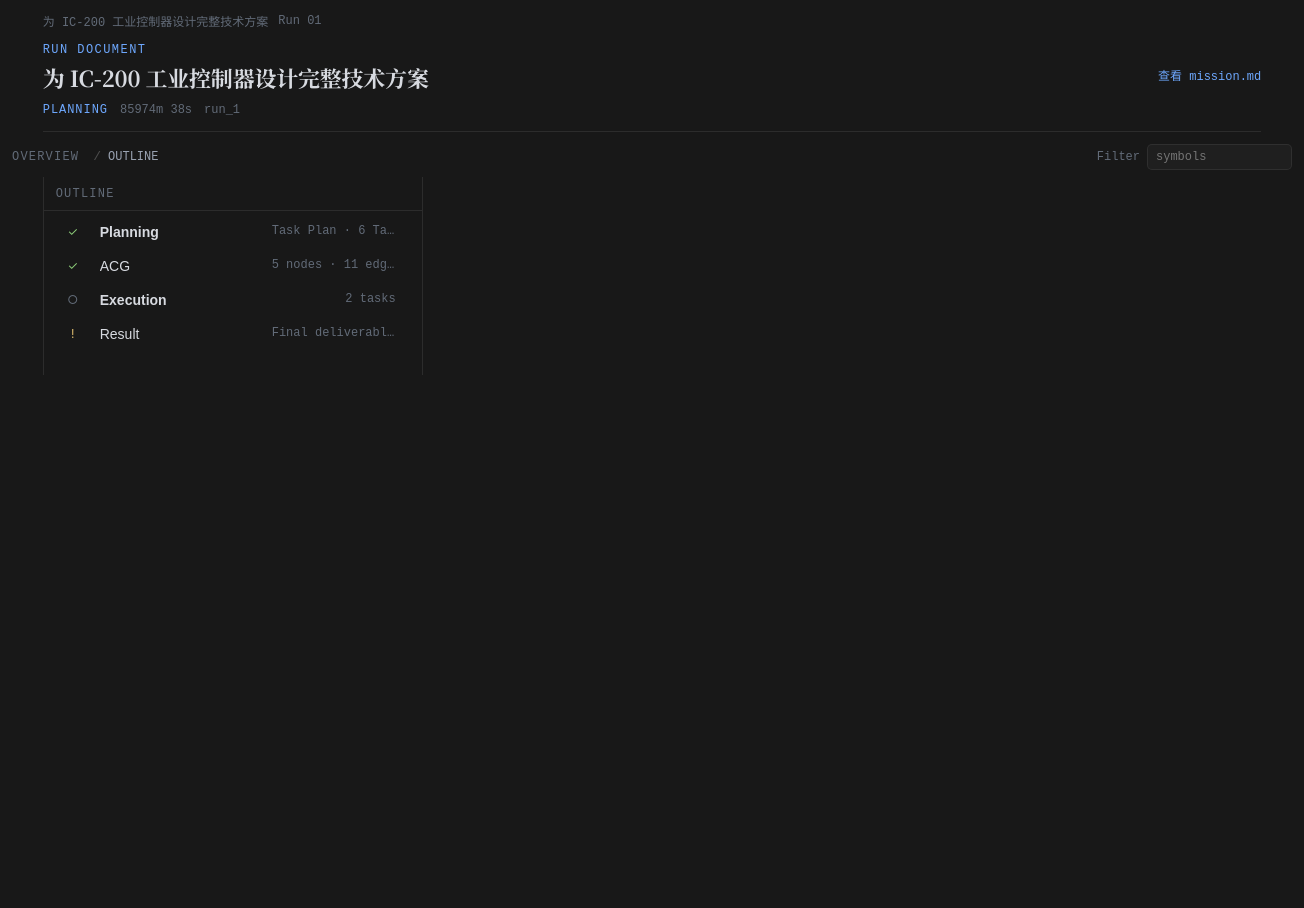
Test: RunProgressEditor › renders the remaining planning stages as dedicated artifacts
Step 1. Click the button with class "run-symbol__main" that starts with "Planning" → (129, 232), box [94,217,402,247]
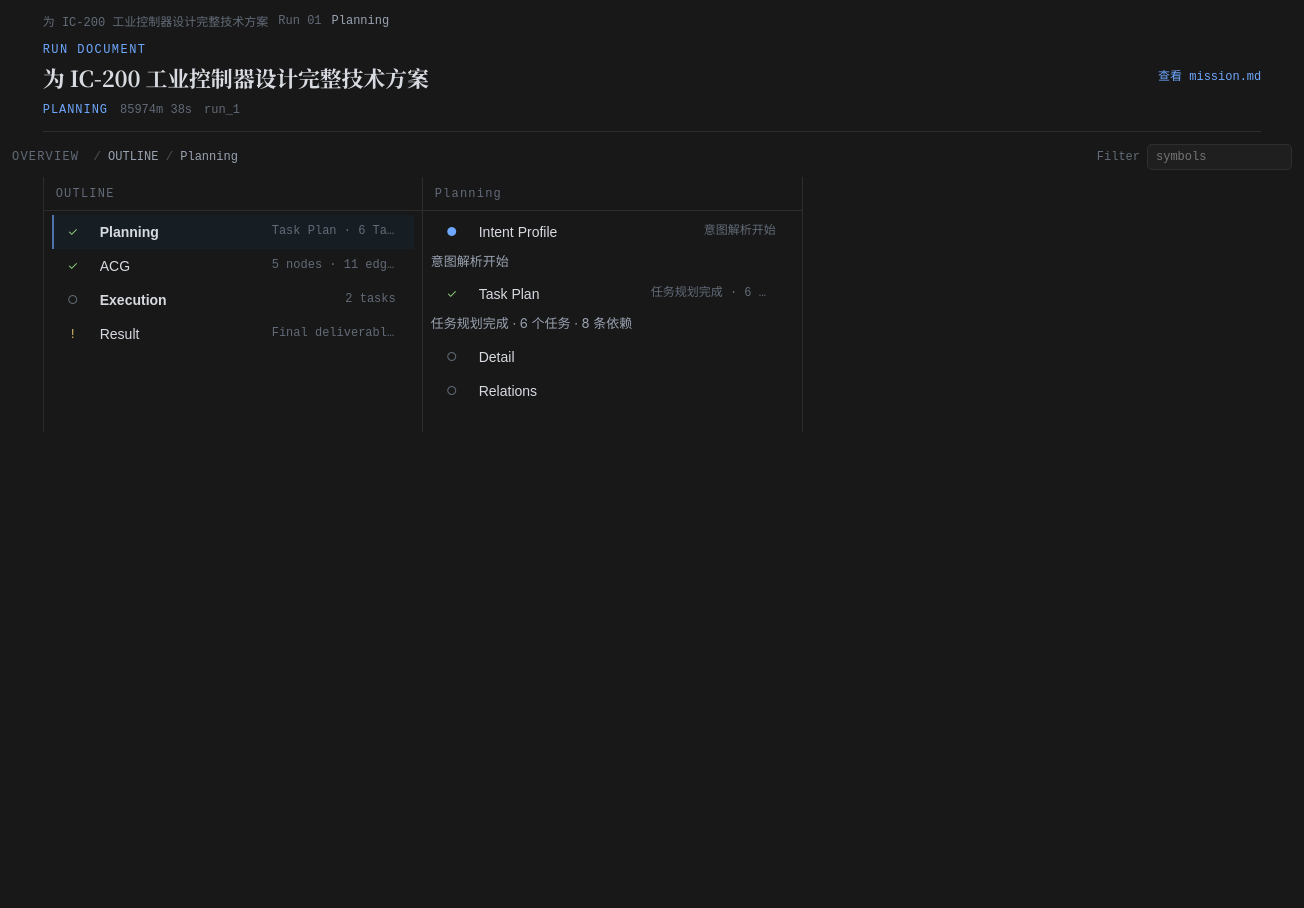
Step 2. Click the button with class "run-symbol__main" that starts with "Task Plan" → (509, 294), box [473,279,782,309]
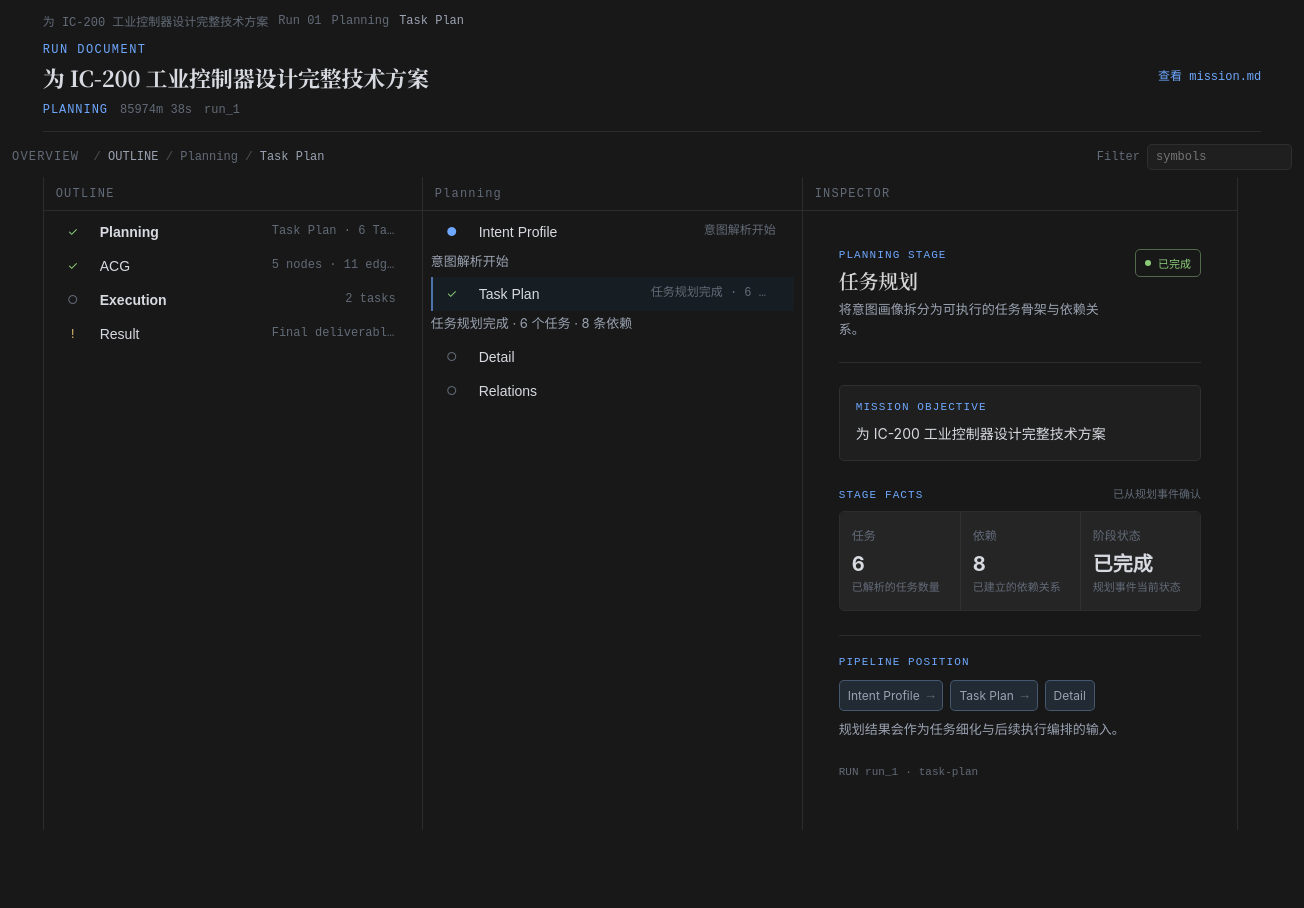
Now the element with test id "planning-task-plan-artifact" shows "6", box [852,552,865,576]
Now the element with test id "planning-task-plan-artifact" shows "8", box [973,552,986,576]
Step 3. Click the button with class "run-symbol__main" showing "Detail" → (497, 357), box [473,342,782,372]
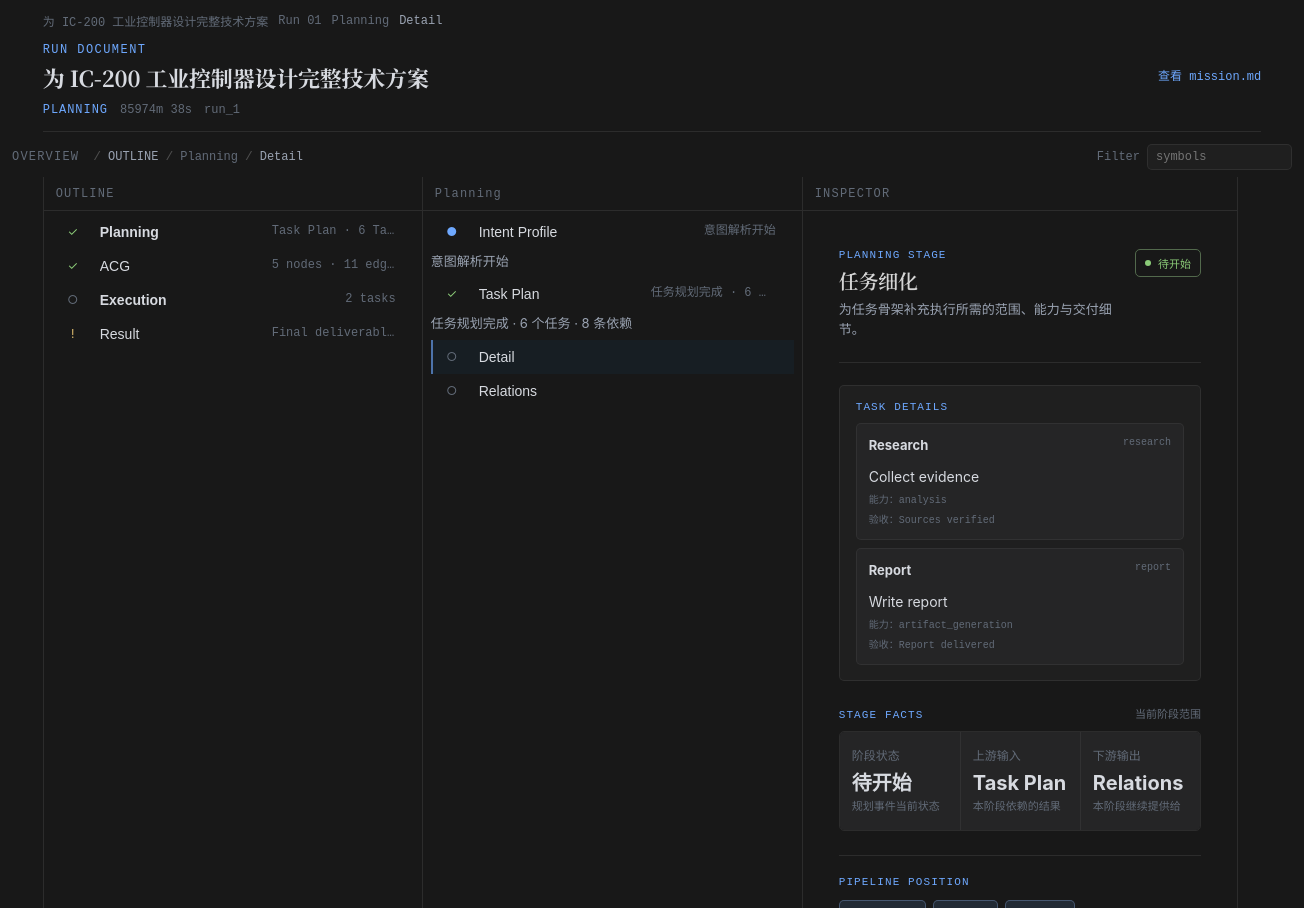
Now the element with test id "planning-detail-artifact" shows "任务细化", box [839,266,918,295]
Now the element with test id "planning-detail-artifact" shows "Collect evidence", box [869,468,979,485]
Now the element with test id "planning-detail-artifact" shows "Sources verified", box [869,515,995,526]
Step 4. Click the button with class "run-symbol__main" showing "Relations" → (508, 391), box [473,376,782,406]
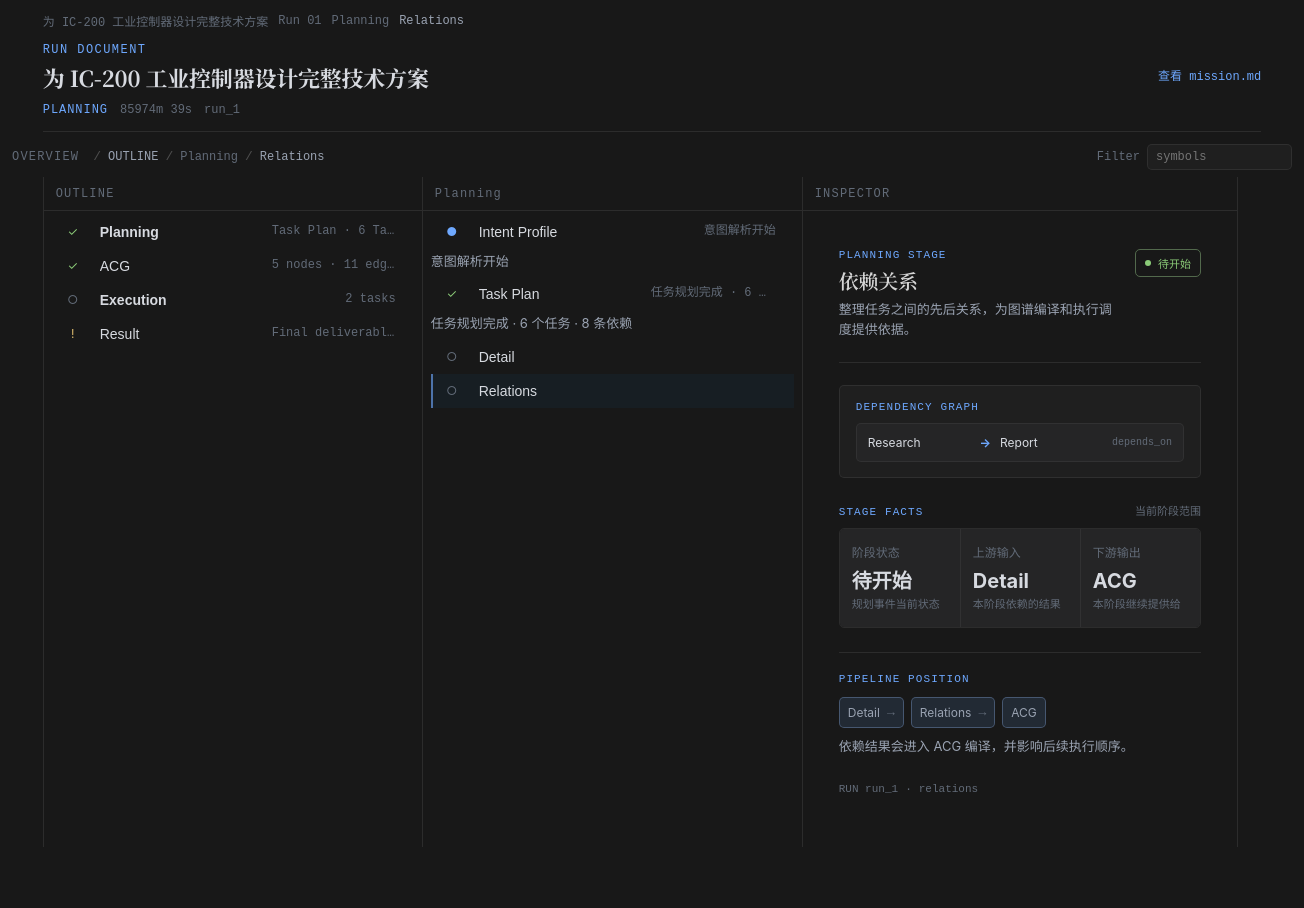
Now the element with test id "planning-relations-artifact" shows "依赖关系", box [839,266,918,295]
Now the element with test id "planning-relations-artifact" shows "Research", box [868,435,921,450]
Now the element with test id "planning-relations-artifact" shows "Report", box [1000,435,1038,450]
